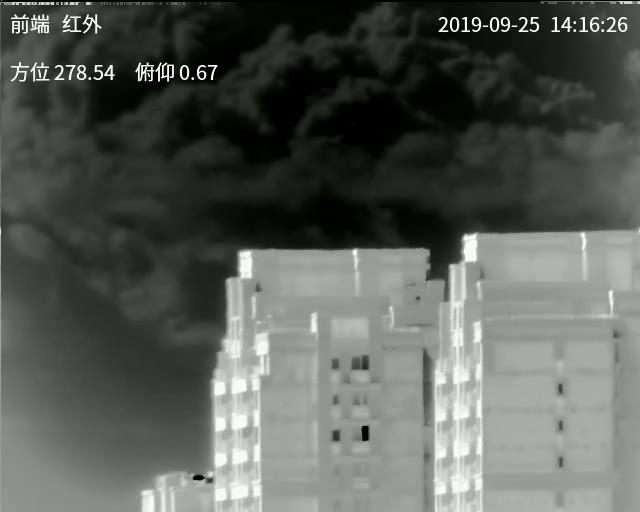uav: (246, 310, 273, 333)
